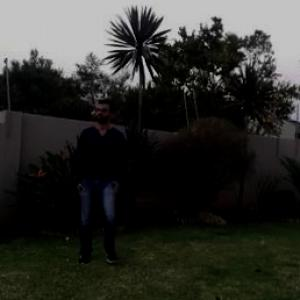follow: (65, 82, 134, 290)
